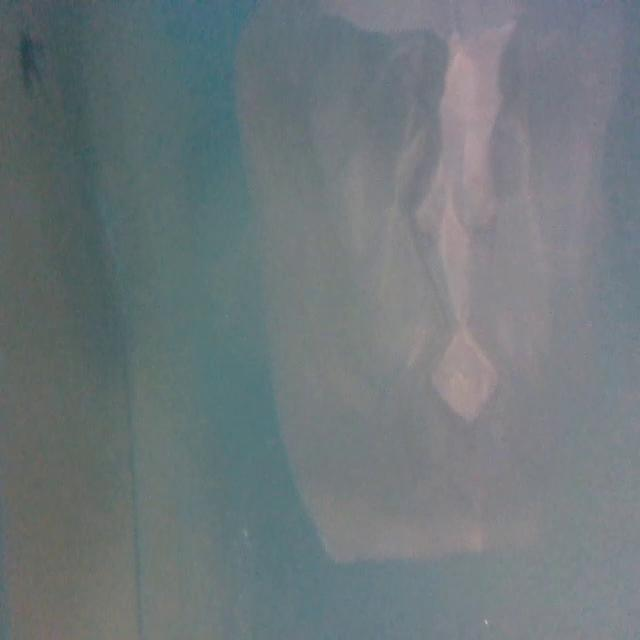plastic bags: (222, 0, 626, 573)
